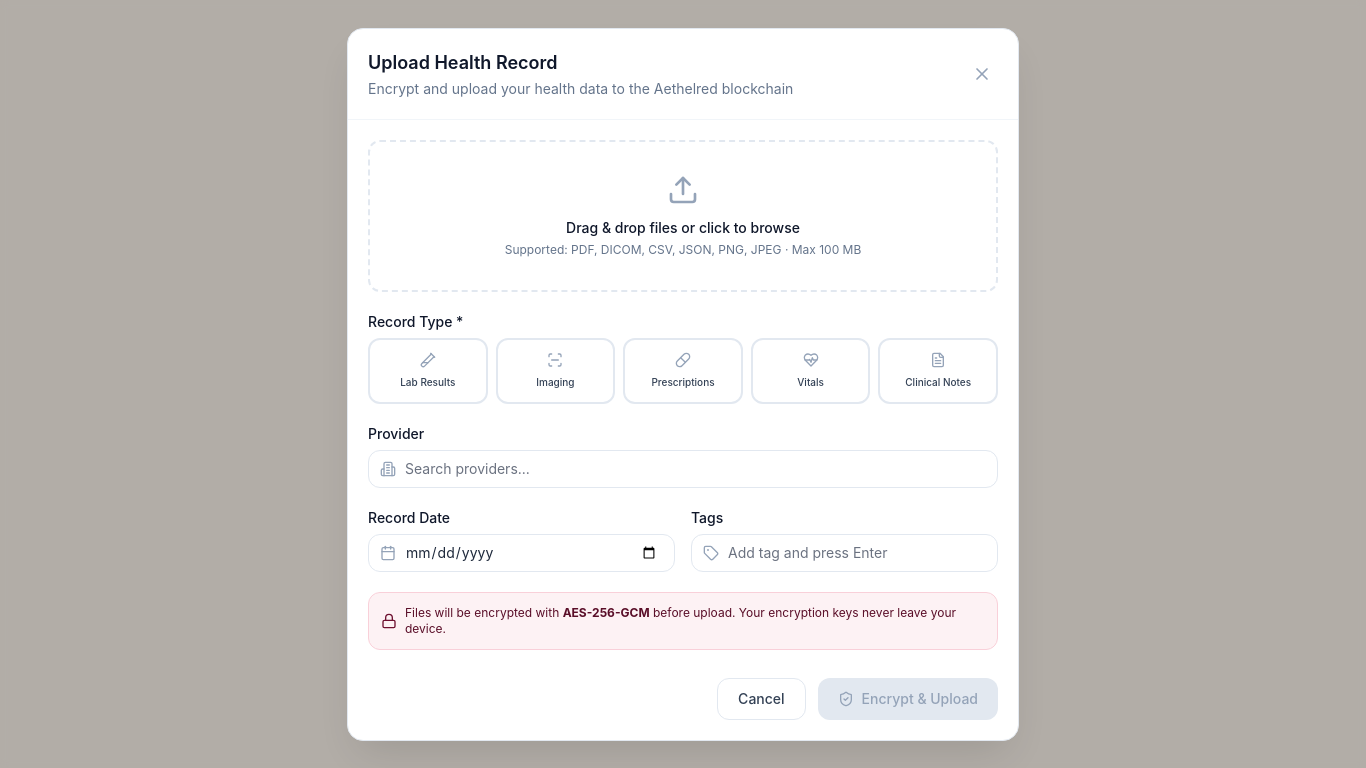
Test: UploadModal › adds a tag when enter is pressed
The image size is (1366, 768).
In the field with placeholder "Add tag and press Enter": (844, 552) top-left (691, 534), bottom-right (998, 572), type "bloodwork"
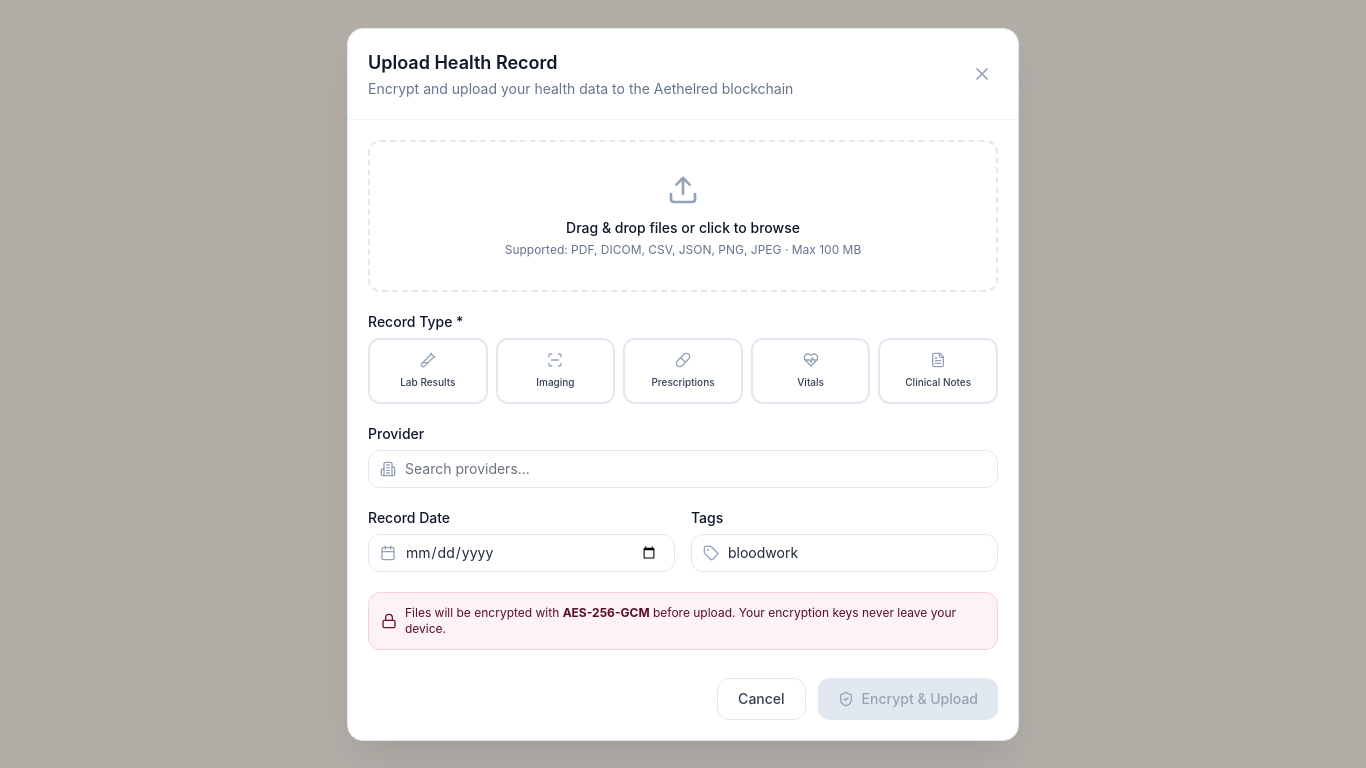
Press Enter in the field with placeholder "Add tag and press Enter", box top-left (691, 534), bottom-right (998, 572)
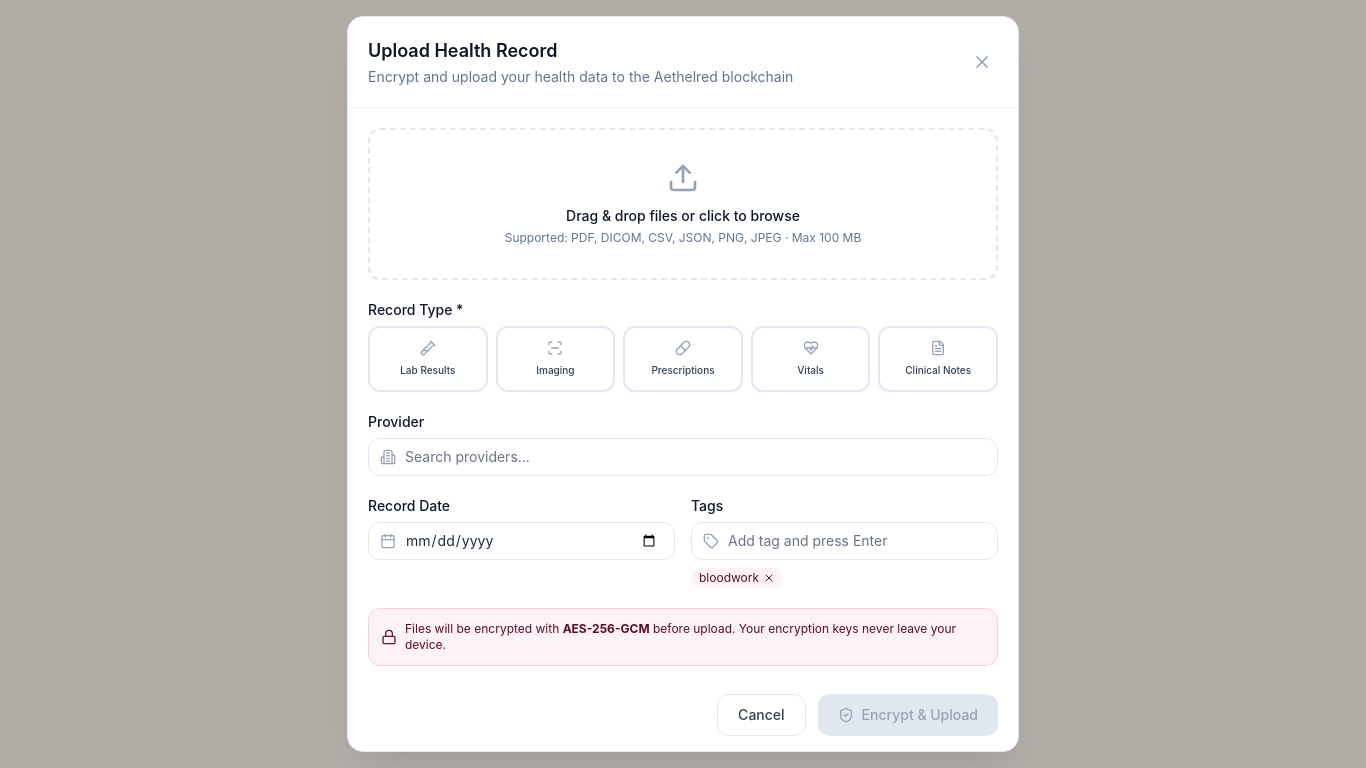
Expected: the text "bloodwork" is shown, top-left (691, 568), bottom-right (783, 588)
